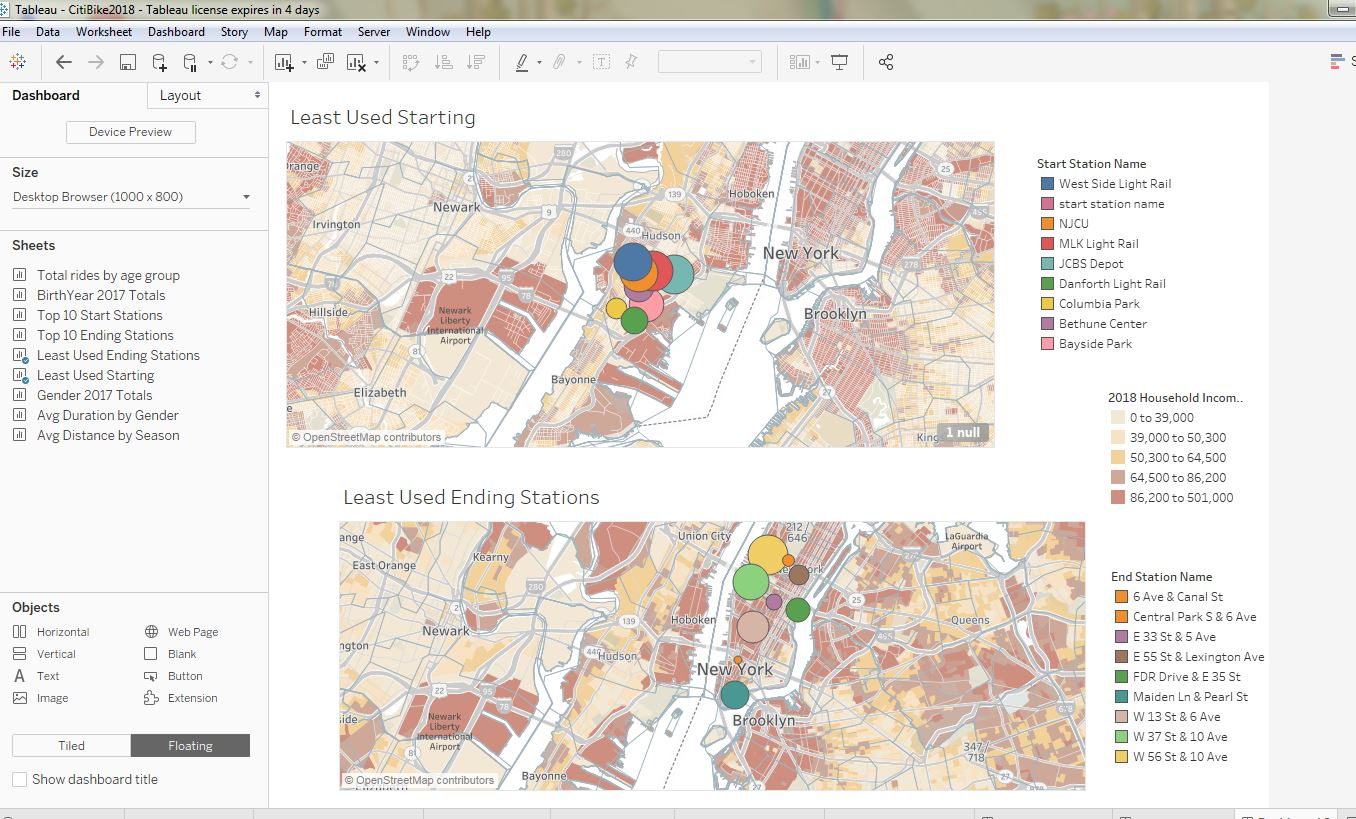

The page's visual inventory and layout, read from the dashboard file:
{"tool":"tableau","page":{"name":"Bottom Start & End","canvas":[1000,800],"ordinal":0},"visuals":[{"type":"worksheet","title":"Least Used Starting","mark":"Automatic","rows":["start station latitude"],"cols":["start station longitude"],"box":[17,16,709,350]},{"type":"legend","title":"Least Used Starting","param":"[federated.0e7hpmo1rsmxcw1aq7kue1a3j1ir].[none:start station name:nk]","box":[768,73,140,198]},{"type":"legend","title":"Least Used Starting","box":[839,307,140,118]},{"type":"worksheet","title":"Least Used Ending Stations","mark":"Automatic","rows":["end station latitude"],"cols":["end station longitude"],"box":[70,396,747,313]},{"type":"legend","title":"Least Used Ending Stations","param":"[federated.0e7hpmo1rsmxcw1aq7kue1a3j1ir].[none:end station name:nk]","box":[842,486,158,218]}]}

Visuals, with their boxes on the page's 1000x800 design canvas (x1, y1, x2, y2). These are canvas units, not pixel positions in the 1356x819 screenshot, which may show the page scaled, cropped or inside an application window:
"Least Used Starting" worksheet: Rect(17, 16, 726, 366)
"Least Used Starting" legend: Rect(768, 73, 908, 271)
"Least Used Starting" legend: Rect(839, 307, 979, 425)
"Least Used Ending Stations" worksheet: Rect(70, 396, 817, 709)
"Least Used Ending Stations" legend: Rect(842, 486, 1000, 704)
